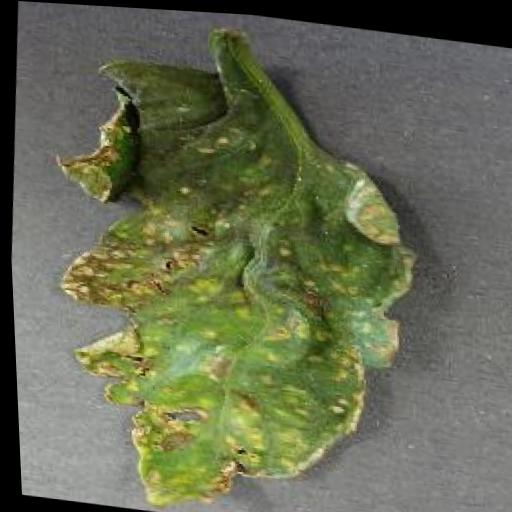Bacterial Spot: (18, 1, 450, 512)
